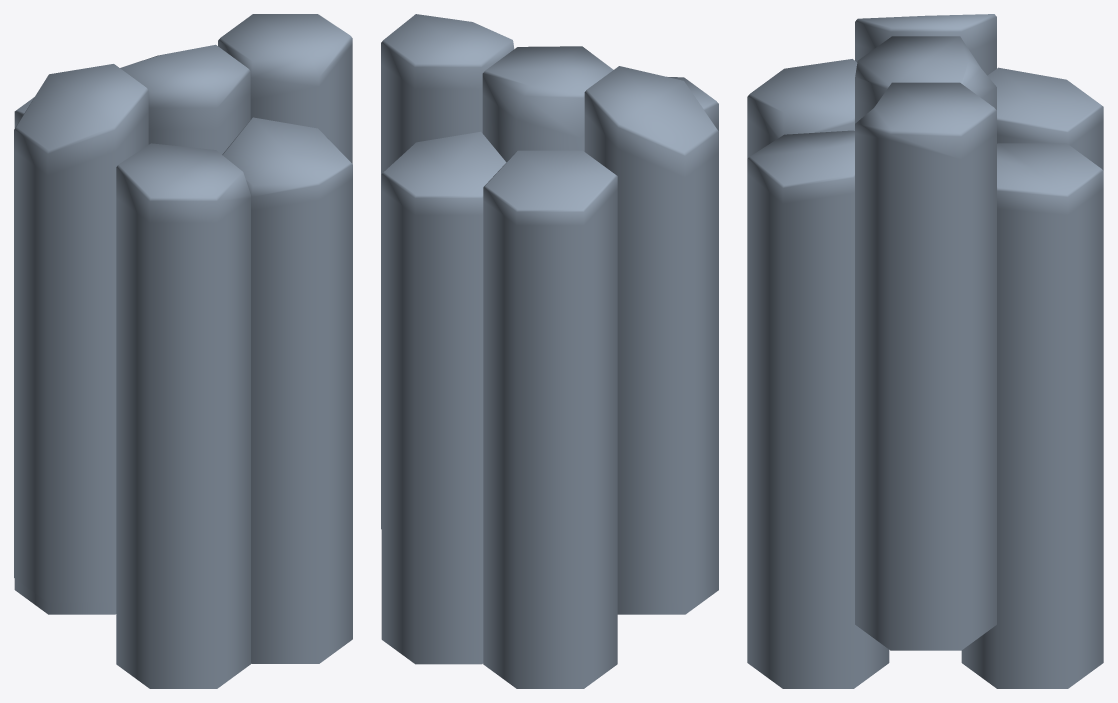
File: HexVariation4.fbx
3 renders of one model, left to right at view 1: azimuth 30°, elevation 25°; view 2: azimuth 150°, elevation 25°; view 3: azimuth 270°, elevation 25°, orthographic. The views are drawn at different scales.
Visible parts, largest first — view 1: Cylinder.006, Cylinder.001, Cylinder.002, Cylinder.000, Cylinder.003, Cylinder.005; view 2: Cylinder.005, Cylinder.001, Cylinder.004, Cylinder.000, Cylinder.003, Cylinder.006; view 3: Cylinder.000, Cylinder.002, Cylinder.004, Cylinder.005, Cylinder.006, Cylinder.003, Cylinder.001.
Part boxes in pixels (bbox=[...]): Cylinder.006: bbox=[116, 143, 250, 688]; Cylinder.001: bbox=[14, 64, 148, 602]; Cylinder.002: bbox=[222, 117, 352, 663]; Cylinder.000: bbox=[218, 14, 352, 163]; Cylinder.003: bbox=[120, 44, 250, 154]; Cylinder.005: bbox=[14, 97, 116, 614]; Cylinder.005: bbox=[483, 150, 617, 688]; Cylinder.001: bbox=[584, 66, 718, 603]; Cylinder.004: bbox=[381, 131, 506, 664]; Cylinder.000: bbox=[381, 14, 514, 529]; Cylinder.003: bbox=[482, 46, 613, 162]; Cylinder.006: bbox=[617, 77, 718, 614]; Cylinder.000: bbox=[855, 82, 996, 650]; Cylinder.002: bbox=[747, 130, 889, 688]; Cylinder.004: bbox=[961, 143, 1103, 688]; Cylinder.005: bbox=[987, 67, 1103, 170]; Cylinder.006: bbox=[747, 59, 857, 158]; Cylinder.003: bbox=[855, 36, 996, 123]; Cylinder.001: bbox=[855, 14, 996, 75].
Bounding box in the file's own units: 520 × 904 × 499.
